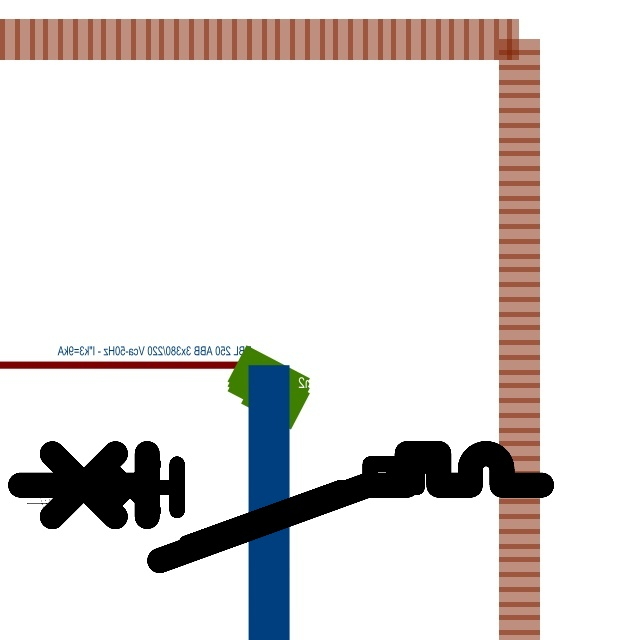interruptor_termomagnetico: (7, 440, 555, 574), (73, 454, 480, 553)
